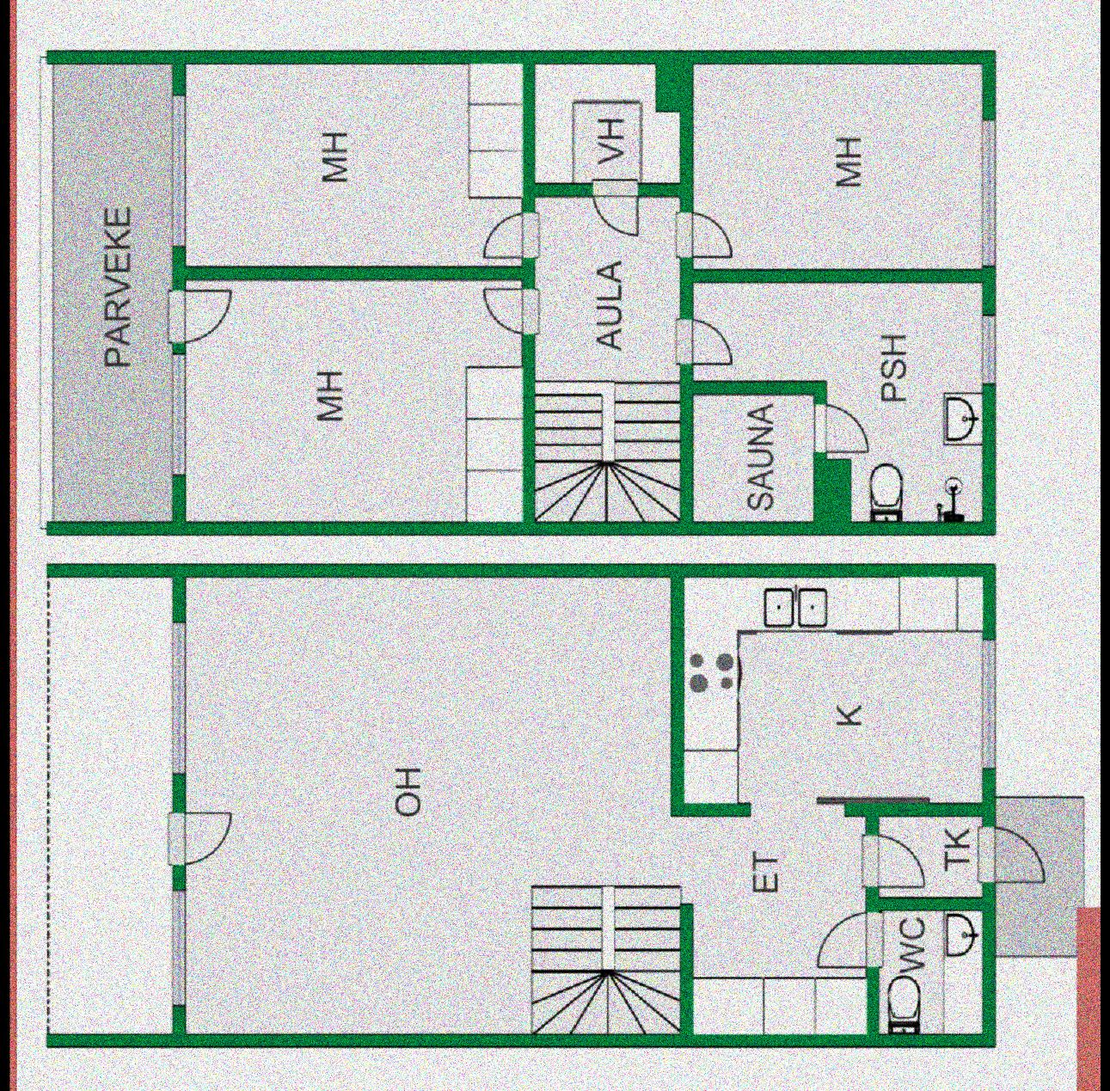door: (169, 279, 237, 352), (973, 822, 1049, 885), (814, 908, 885, 971), (169, 806, 241, 867), (859, 824, 923, 889), (813, 399, 873, 457), (591, 172, 642, 237), (674, 207, 740, 257), (482, 209, 542, 263), (674, 312, 730, 365), (482, 286, 537, 334)
window: (165, 622, 187, 773), (978, 641, 1002, 769), (169, 890, 190, 1007), (168, 352, 187, 478), (169, 103, 185, 250), (982, 123, 995, 265), (978, 316, 996, 384)
zone: (187, 578, 861, 1031), (183, 281, 523, 520), (691, 279, 980, 518), (684, 573, 983, 802), (183, 64, 525, 263), (691, 61, 981, 273), (49, 61, 172, 524), (46, 580, 166, 1036), (533, 200, 680, 519), (531, 64, 684, 189), (690, 395, 813, 520), (879, 911, 982, 1036), (874, 816, 981, 896)
